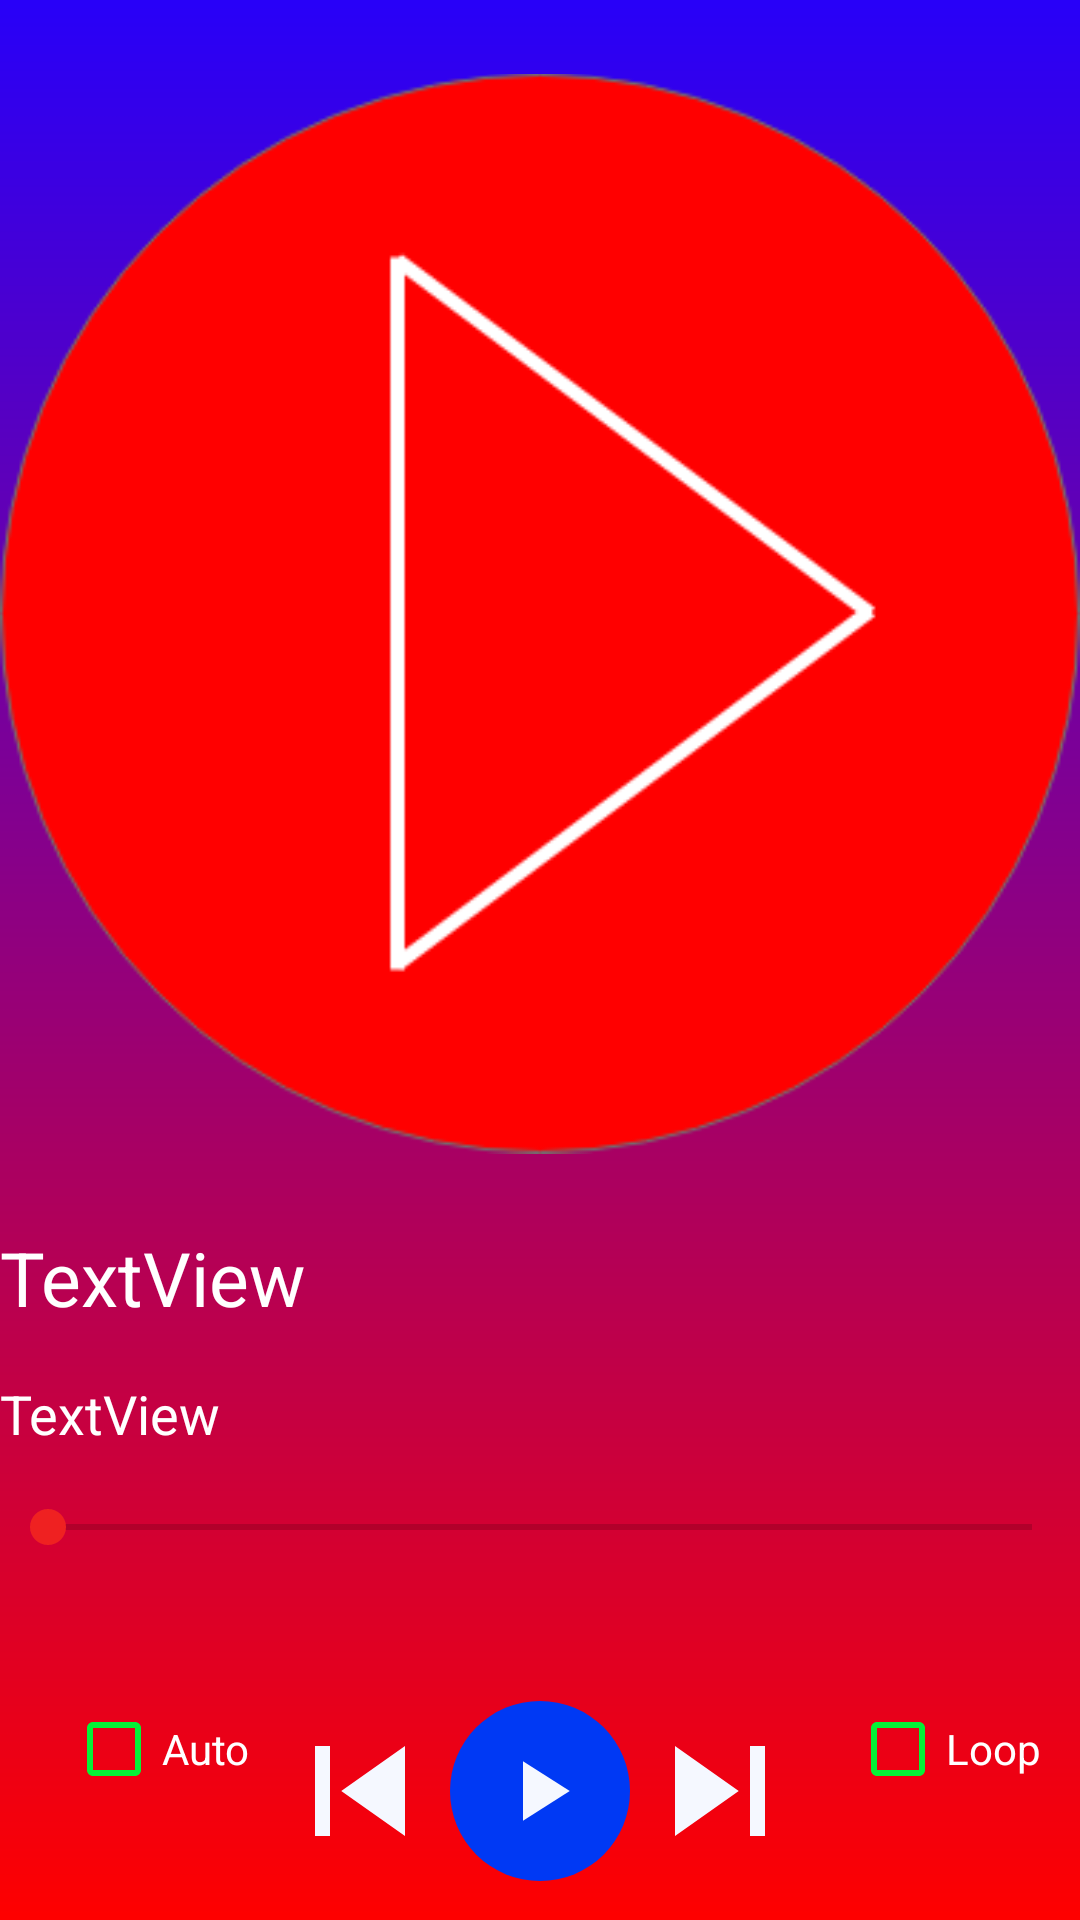

Named icons in this screenshot (1080 × 1920) and their centers, (x,y):
next: (720,1791)
play: (540,1791)
previous: (360,1791)
